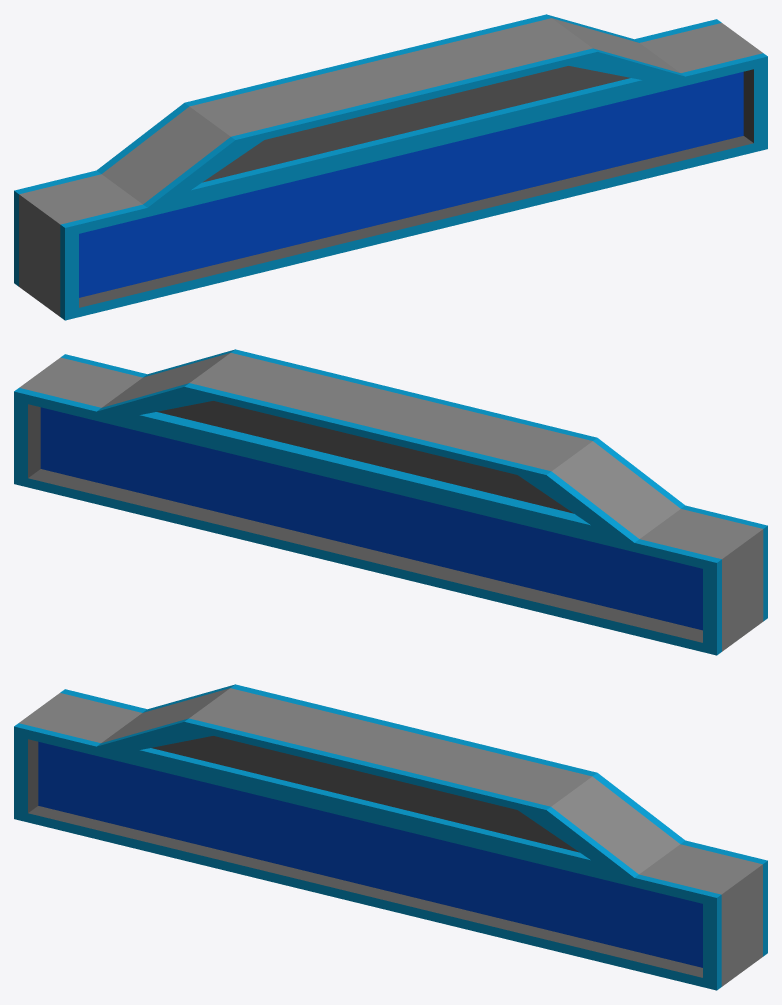
File: pillar1.fbx
The picture shows the model from 3 angles, top to bottom: view 1: azimuth 30°, elevation 25°; view 2: azimuth 150°, elevation 25°; view 3: azimuth 330°, elevation 25°; orthographic projection.
Parts seen in each view (by area): view 1: Cube; view 2: Cube; view 3: Cube.
Part boxes in pixels (<box>): Cube: <box>14,14,767,320</box>; Cube: <box>14,349,767,655</box>; Cube: <box>14,684,767,990</box>.
Size of the model in its own units: 1589 by 300 by 200.
